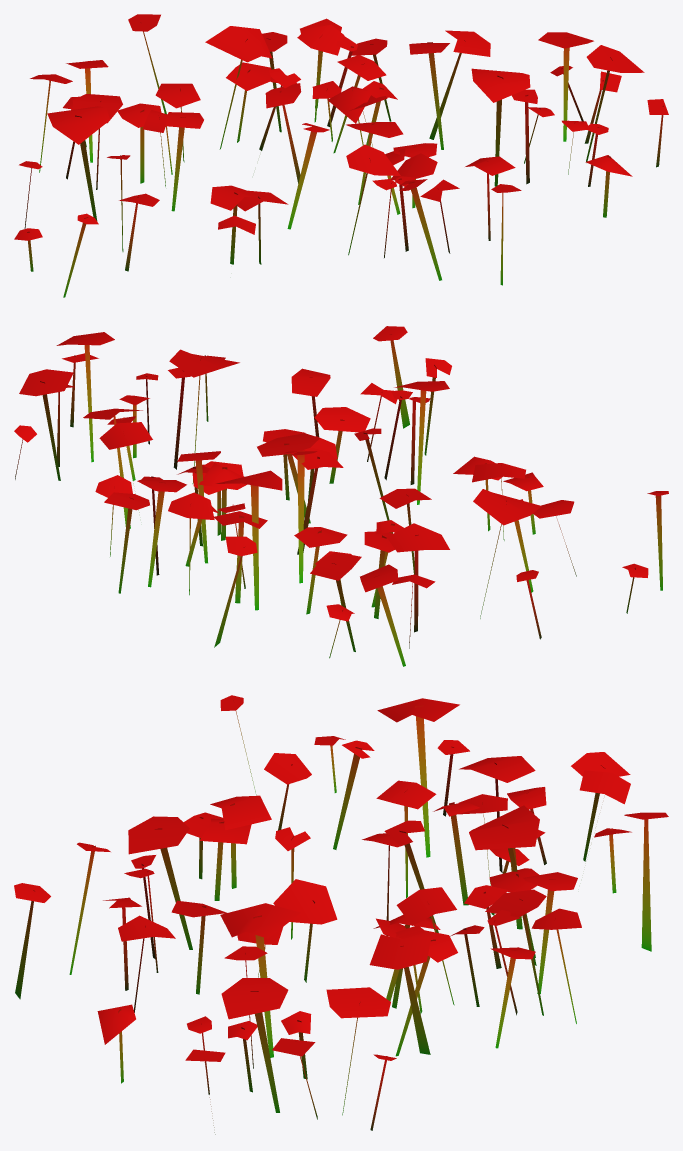
File: Clover Varieties_LOD1_Var2_rbpof.fbx
3 views of the same model, one above another, from view 1: azimuth 30°, elevation 25°; view 2: azimuth 150°, elevation 25°; view 3: azimuth 270°, elevation 25° (orthographic). The views are drawn at different scales.
Parts seen in each view (by area): view 1: _0784_Var2_LOD1; view 2: _0784_Var2_LOD1; view 3: _0784_Var2_LOD1.
Boxes of the visible parts, box(x1,y1,x2,y2) form: _0784_Var2_LOD1: box(14, 14, 668, 297); _0784_Var2_LOD1: box(14, 326, 668, 666); _0784_Var2_LOD1: box(14, 695, 668, 1134).
Bounding box in the file's own units: 67.04 × 12.67 × 51.67.
